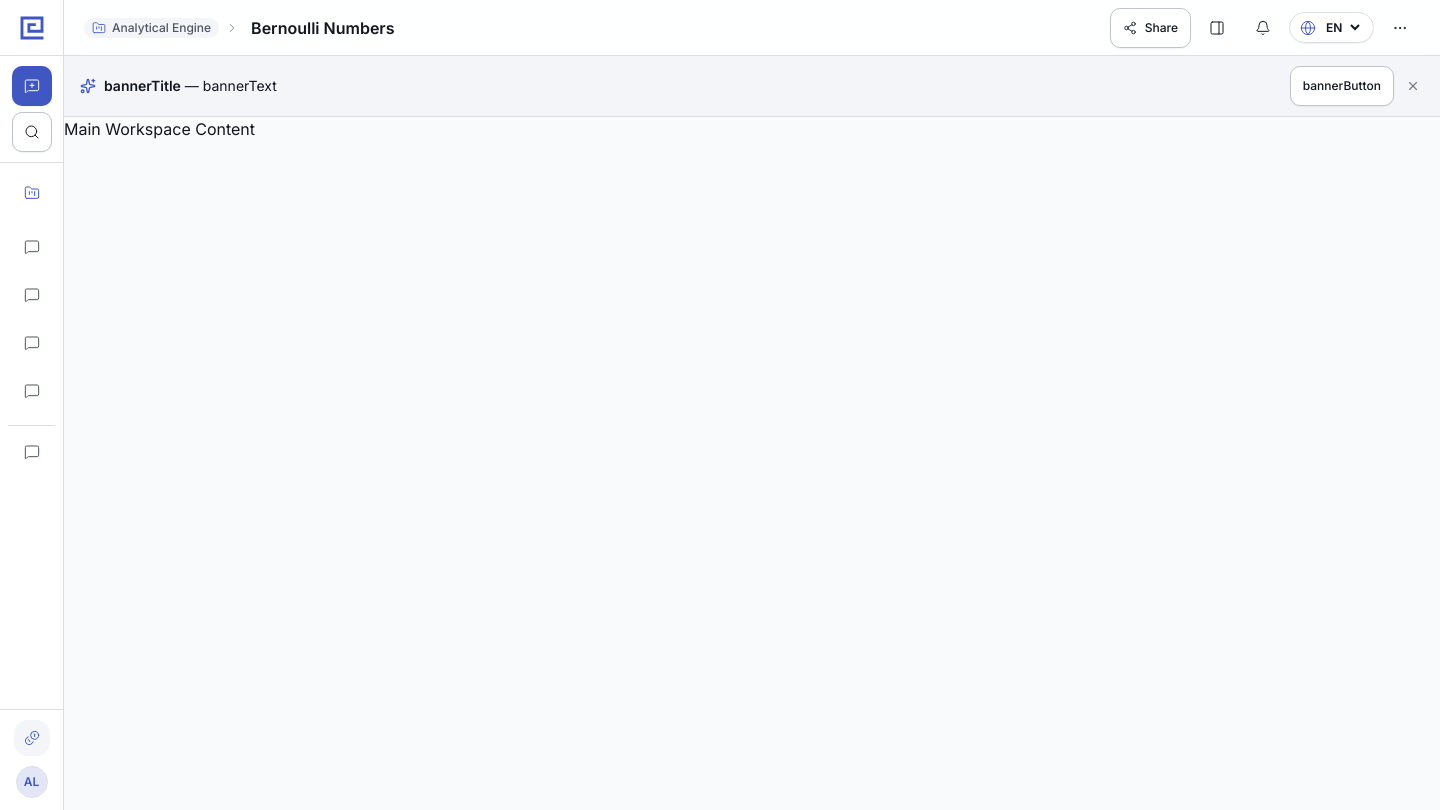
Test case: Auto-closing sidebar — app shell › also opens as an overlay when the person collapsed it themselves
Step 1. Hover over the element showing "AL" → (32, 405), box [0,0,64,809]
Wait 300 ms
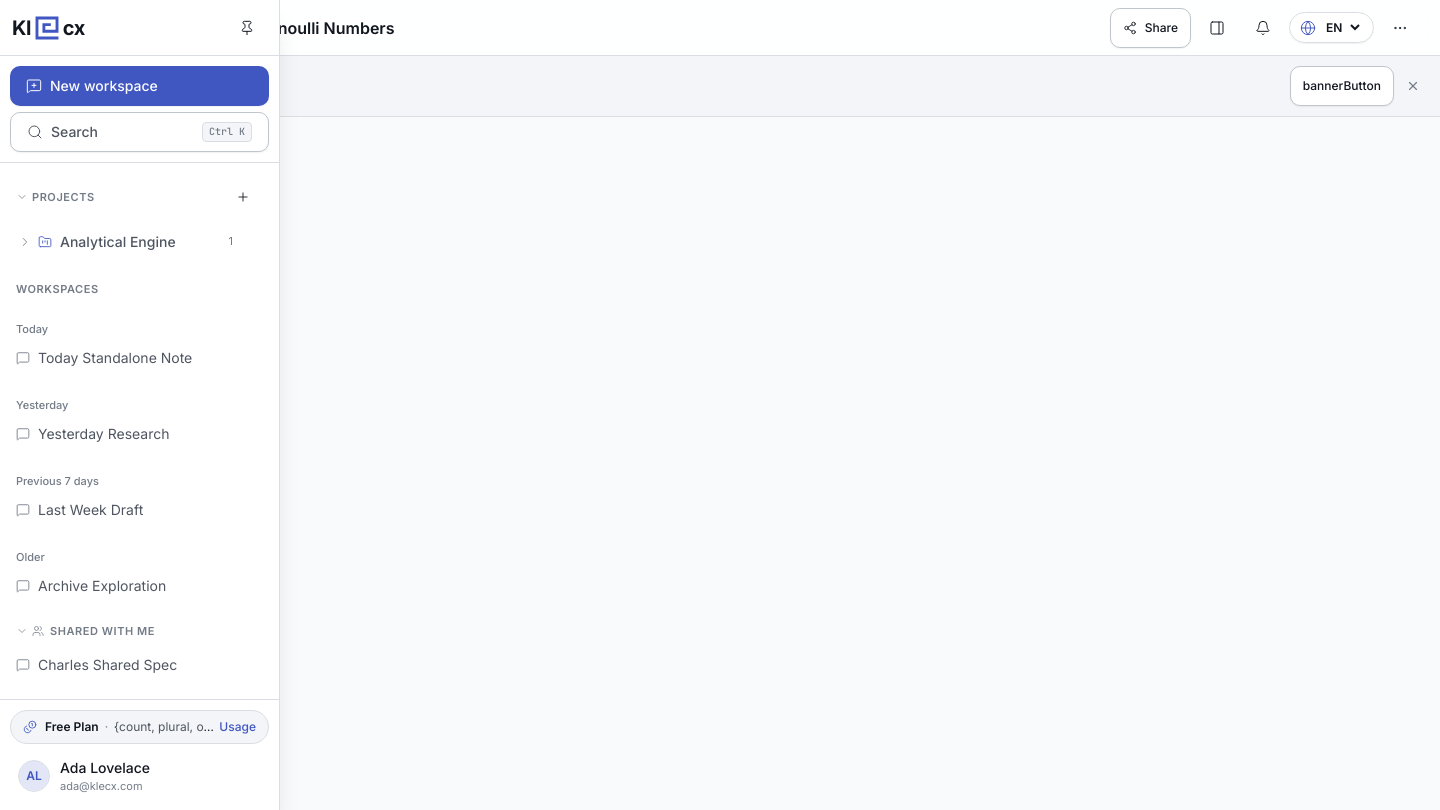
Step 2. Click the button named "Keep sidebar open" → (247, 28), box [227,8,267,48]
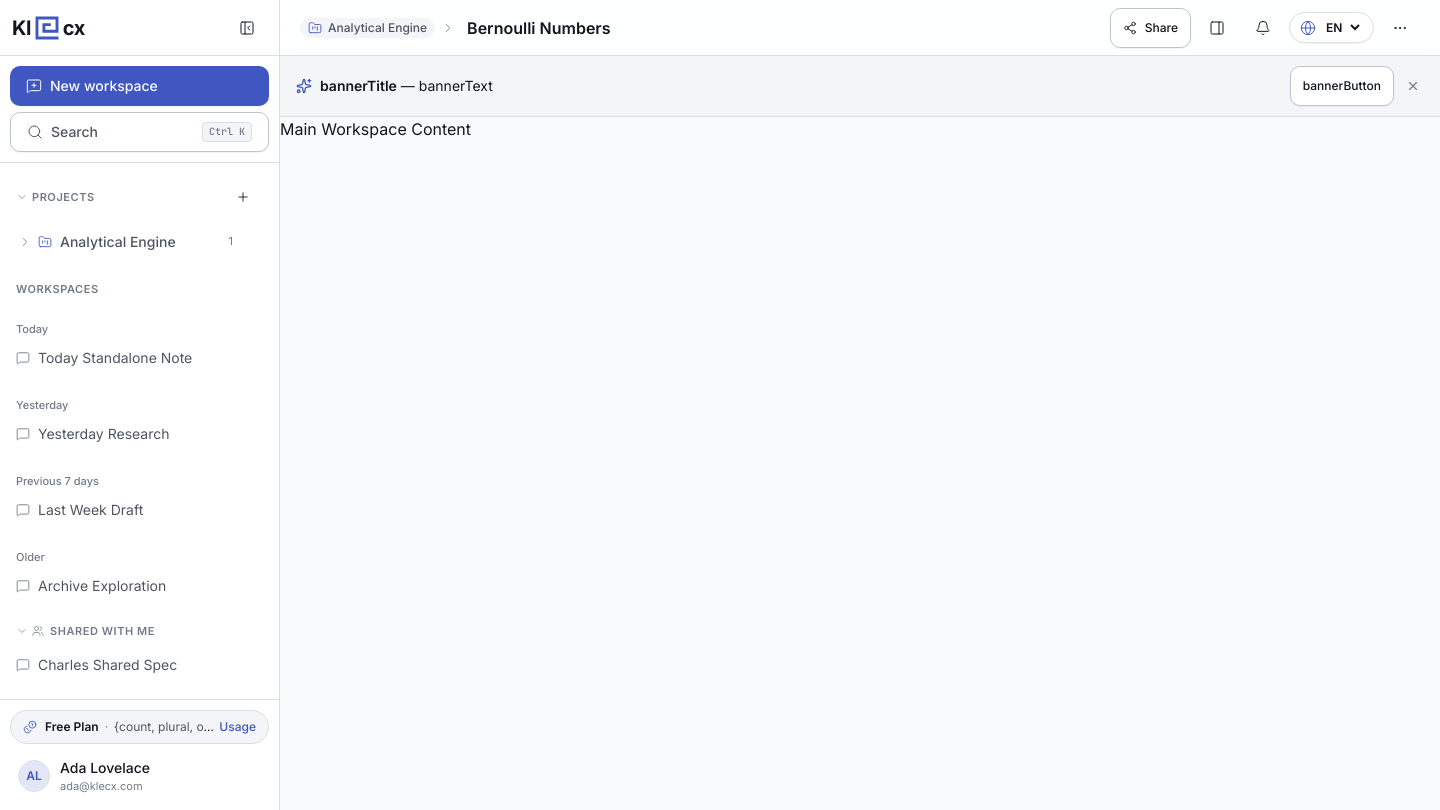
Expected: the element with test id "sidebar-overlay" is gone
